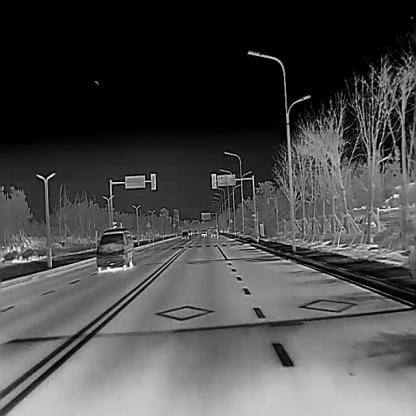car: (96, 226, 133, 271), (209, 226, 218, 236), (200, 228, 208, 238), (180, 230, 188, 239), (188, 228, 192, 236), (194, 229, 197, 234)
